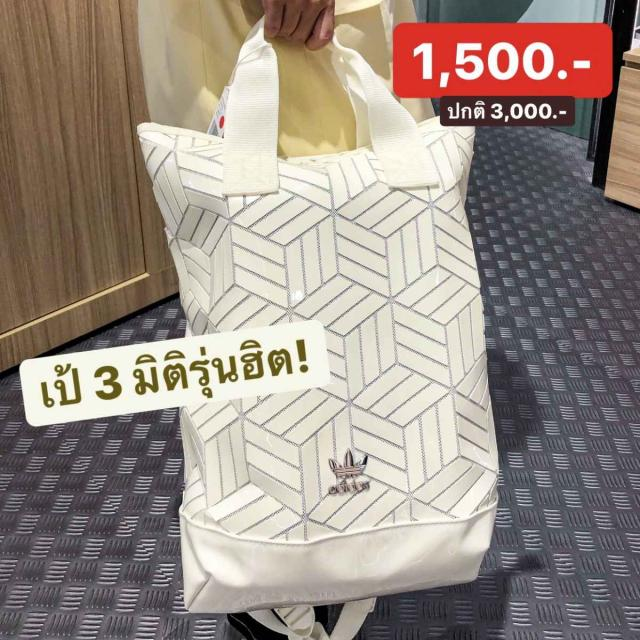Handbag: (145, 93, 481, 610)
